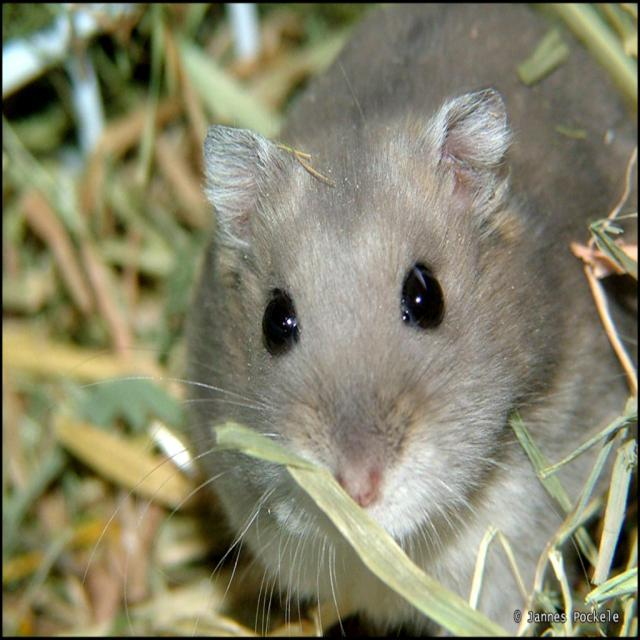rat: (78, 0, 640, 639)
